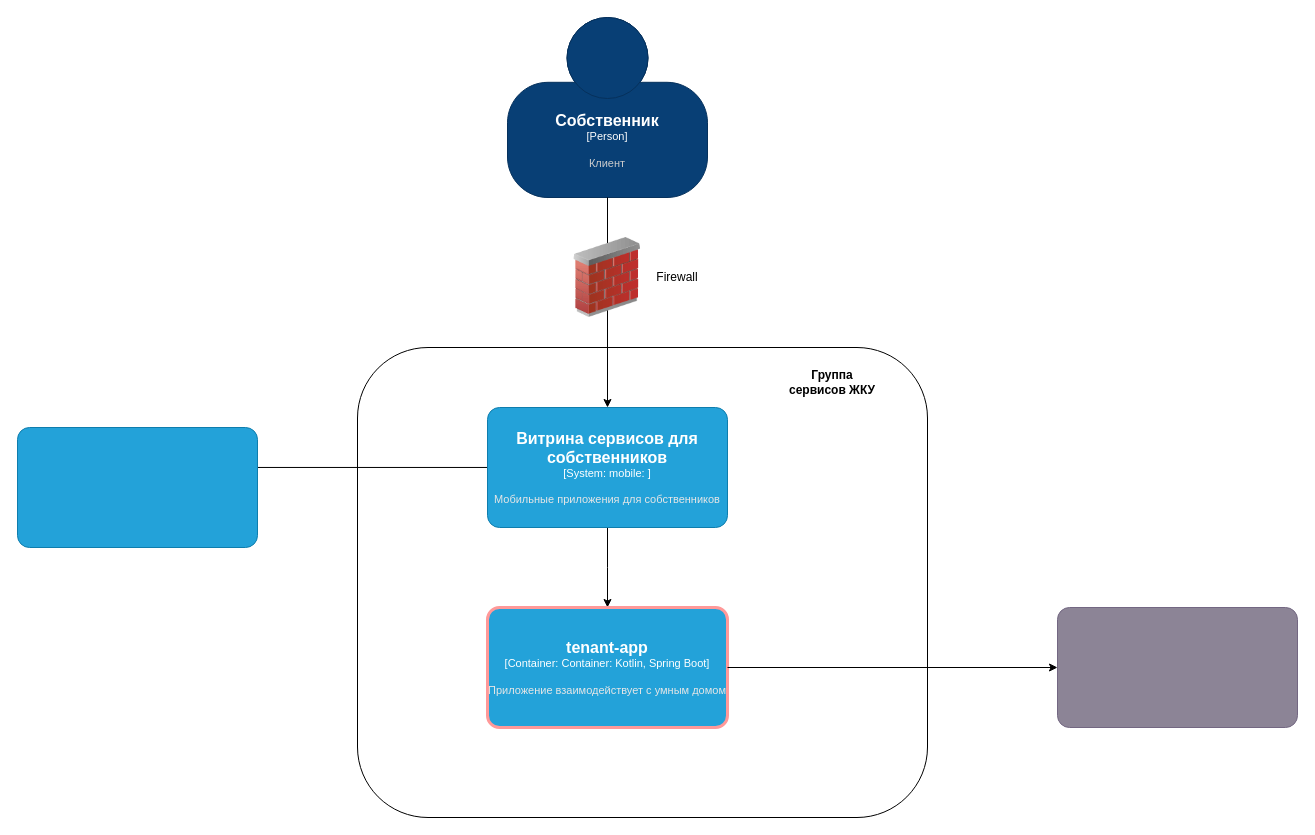
The diagram is 1315 pixels wide and 835 high, and some of its shapes have lost their labels. The shapes that lost their labels are listed below. From the top down, each one's centre as x and y in pixels, then its label:
At (x=137, y=487): "auth-service-1 [Container: Keycloak] Сервис аутентификации покупателей".
At (x=1177, y=667): "Умный дом [Software System] Интеллектуальный домофон и шлагбаум".
